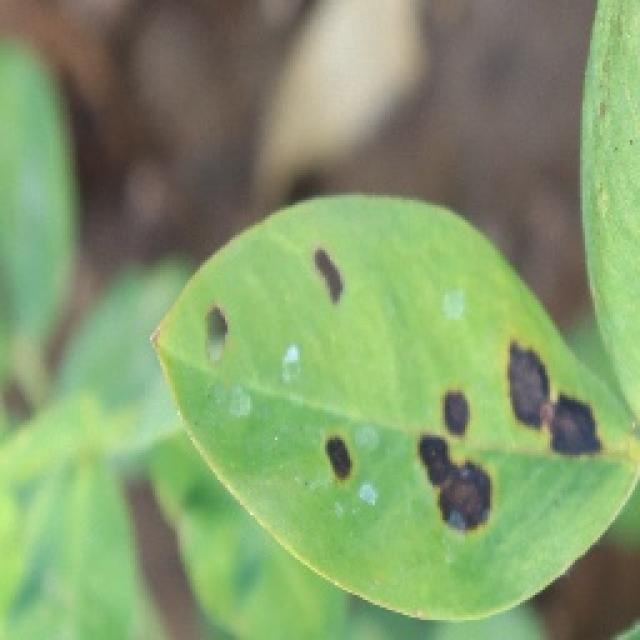Yellowish: (194, 222, 616, 588)
